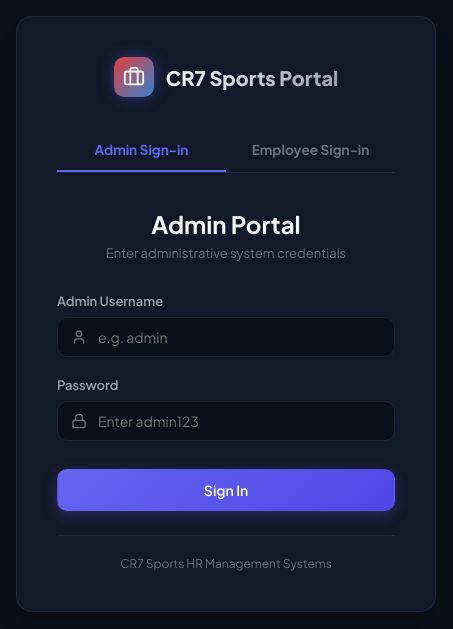
Test: LoginPage › shows Authenticating... text while loading
The image size is (453, 629).
Type "admin" into the field labelled "Admin Username" at x=226, y=337, box x1=57 y1=317 x2=395 y2=357
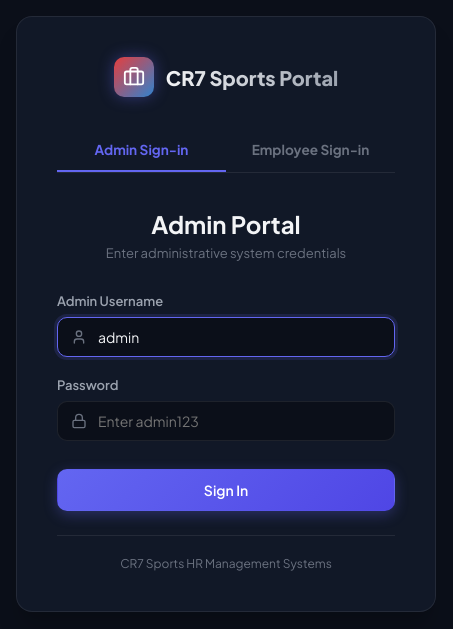
Type "admin123" into the password field labelled "Password" at x=226, y=421, box x1=57 y1=401 x2=395 y2=441
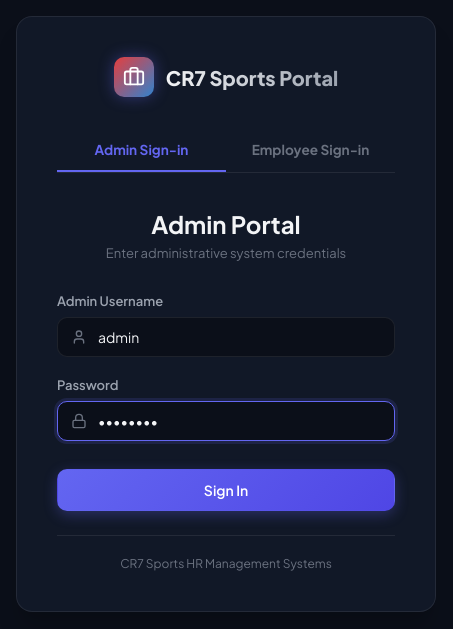
Click the button "Sign In" at x=226, y=490, box x1=57 y1=469 x2=395 y2=511
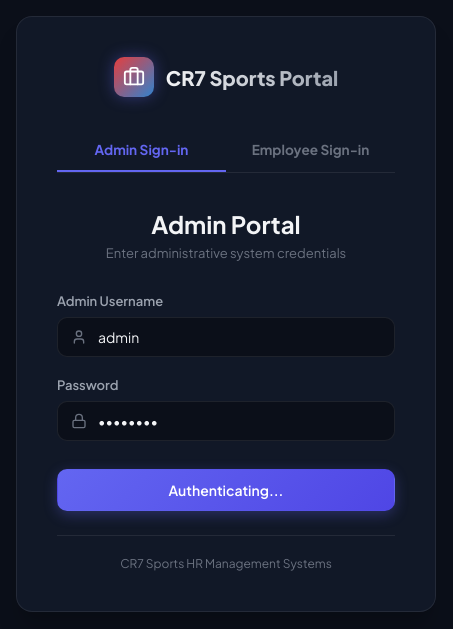
Result: the button "Authenticating..." is shown at x1=57 y1=469 x2=395 y2=511
